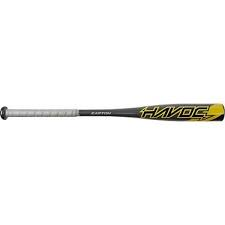bat: (1, 103, 225, 122)
